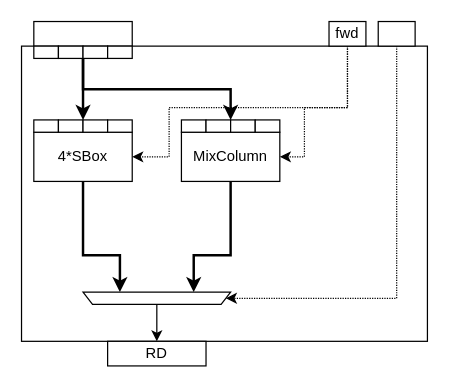
Some shapes in this 449 by 387 pixel diagram are drawn without their labels. The shapes that lost their labels are listed below. From the top down, each one's centre as x and y in pixels, then its label:
point (82, 33): RS1
point (396, 33): Mix
